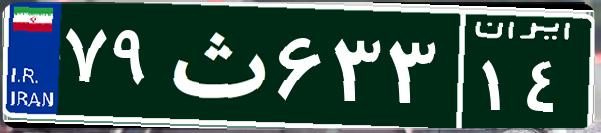1: (475, 38, 525, 113)
3: (385, 28, 445, 110), (330, 28, 385, 110)
4: (525, 38, 570, 115)
6: (273, 28, 330, 110)
7: (57, 26, 110, 107)
9: (110, 28, 158, 105)
ث: (158, 15, 273, 115)
